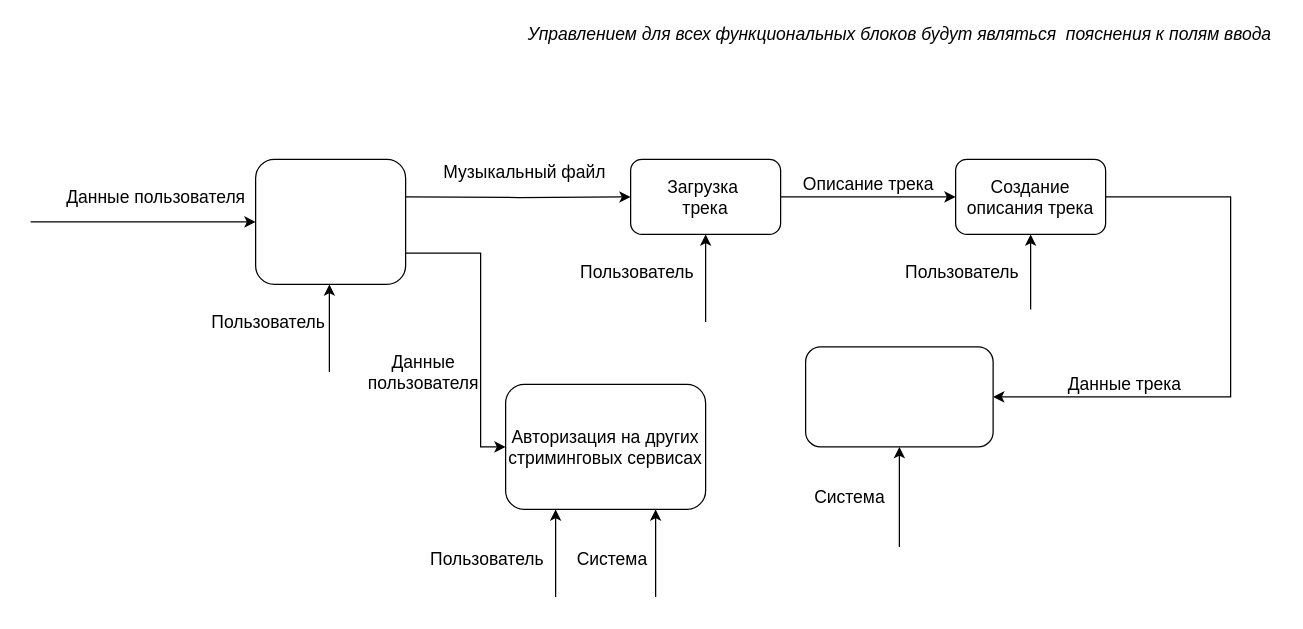
The diagram is 1303 pixels wide and 629 high, and some of its shapes have lost their labels. Each missing label, with the centre of its shape:
"Авторизация/Аутентификация" belongs at [330,221].
"Размещение трека на стриминговых площадках" belongs at [898,396].
